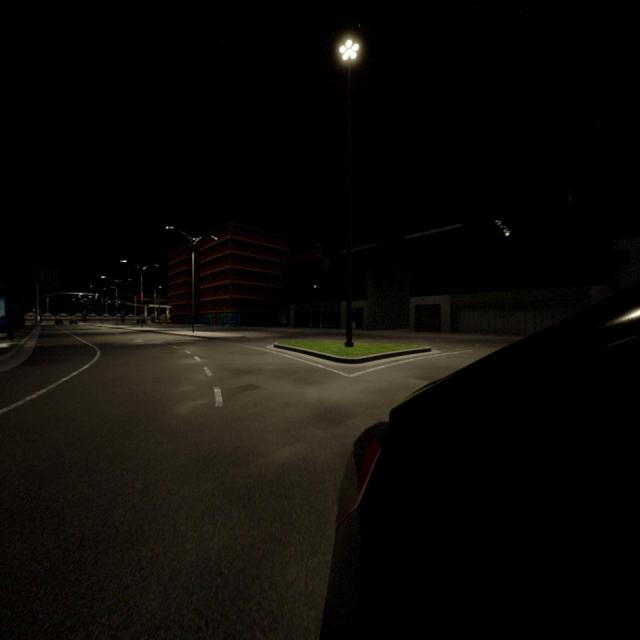Vehicle: (326, 294, 639, 638), (156, 318, 171, 324), (55, 318, 63, 325), (70, 318, 77, 325), (137, 319, 145, 324)
traffic_light: (96, 294, 98, 299), (118, 301, 121, 304), (79, 295, 81, 298), (108, 301, 110, 303)
